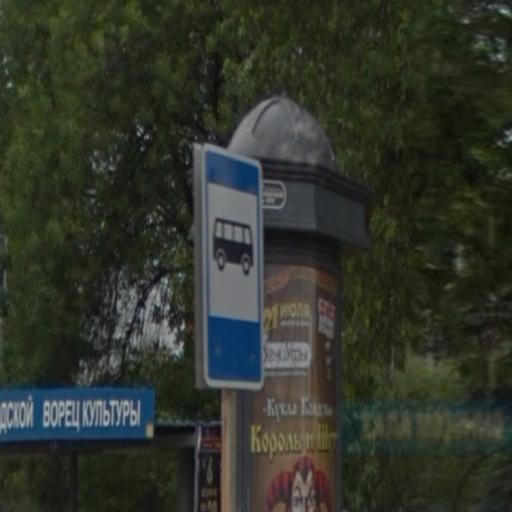traffic_sign: (199, 141, 269, 391)
